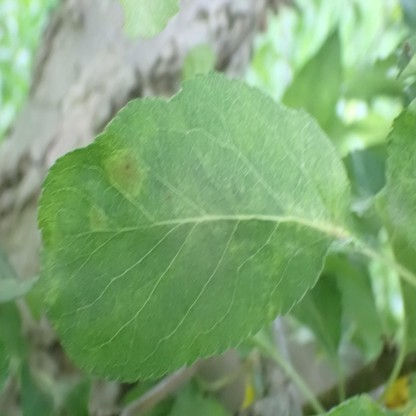scab: (103, 152, 143, 197), (42, 212, 61, 306), (90, 204, 107, 232)
